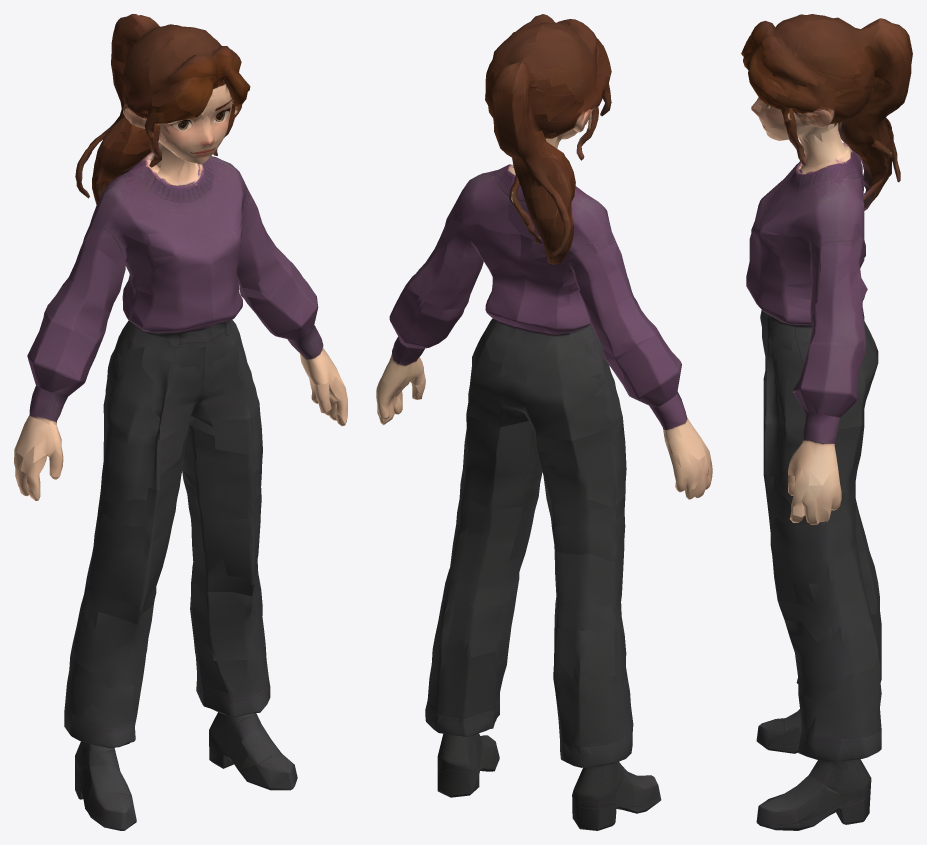
Rendered from cousin-female.glb.
The picture shows the model from 3 angles, left to right: view 1: azimuth 30°, elevation 25°; view 2: azimuth 150°, elevation 25°; view 3: azimuth 270°, elevation 25°; orthographic projection.
Bounding box in the file's own units: 0.8493 × 1.9 × 0.3875.
Materials: 1 (1 with a texture image).
